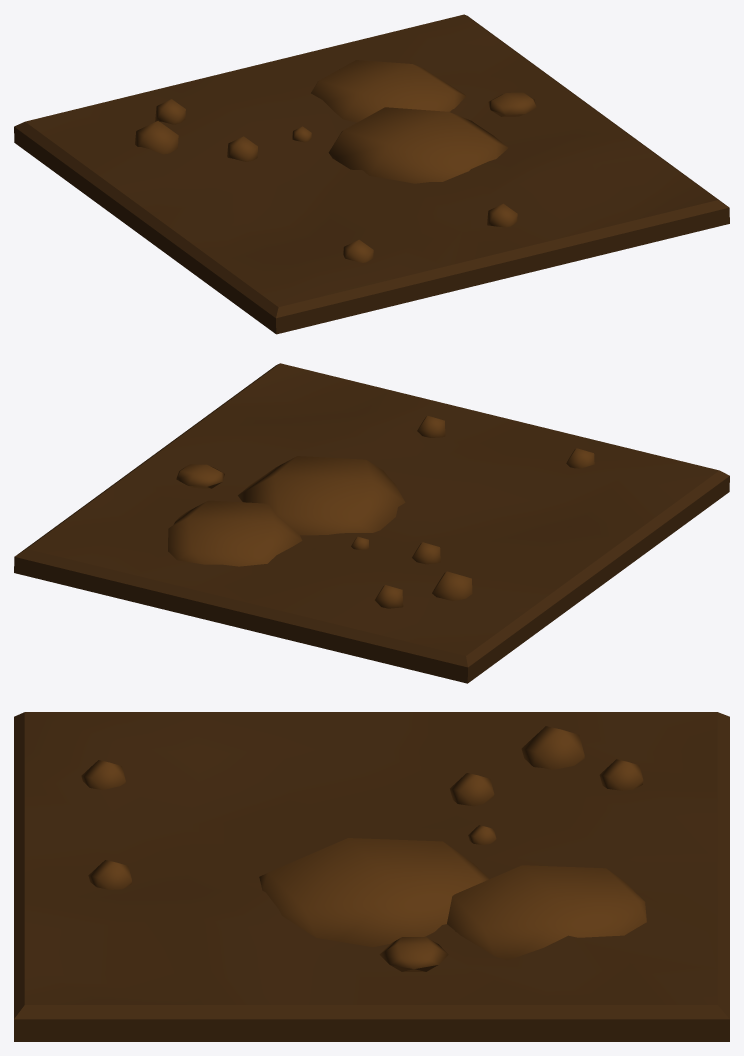
Rendered from dirt3.fbx.
3 renders of one model, top to bottom at view 1: azimuth 30°, elevation 25°; view 2: azimuth 150°, elevation 25°; view 3: azimuth 270°, elevation 25°, orthographic. The views are drawn at different scales.
Visible parts, largest first — view 1: Sphere.003; view 2: Sphere.003; view 3: Sphere.003.
Part boxes in pixels (x1,y1,x2,y2): Sphere.003: (14, 14, 729, 334); Sphere.003: (14, 363, 729, 683); Sphere.003: (14, 712, 729, 1041).
Bounding box in the file's own units: 1.05 × 0.1343 × 1.05.
